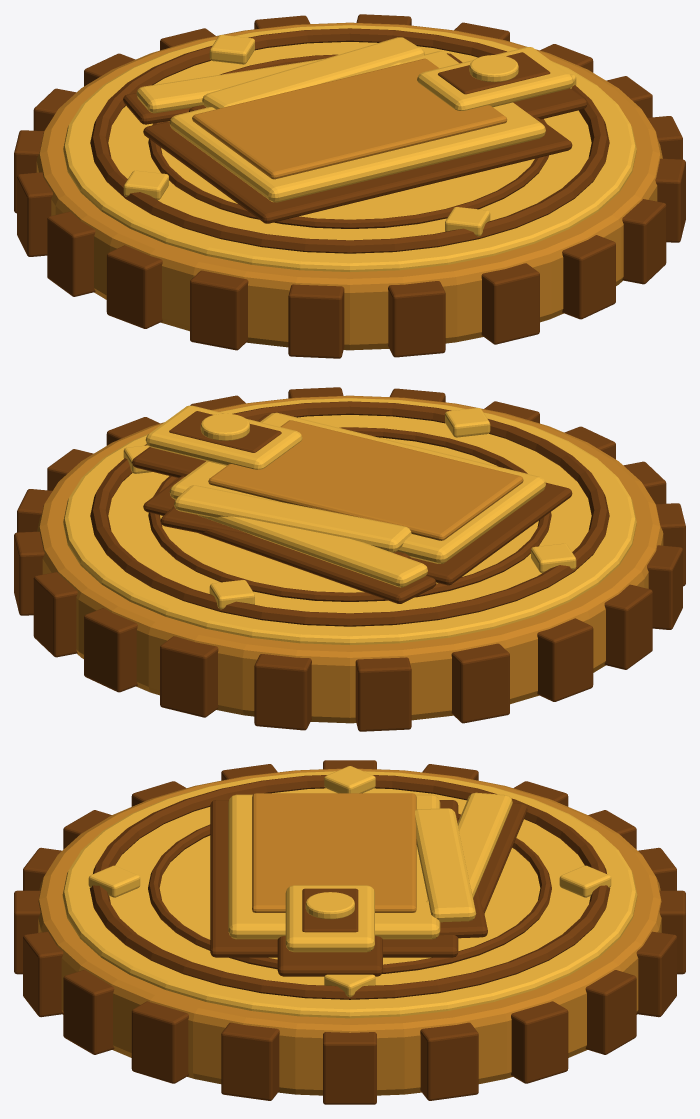
Rendered from 1coin.glb.
The picture shows the model from 3 angles, top to bottom: view 1: azimuth 30°, elevation 25°; view 2: azimuth 150°, elevation 25°; view 3: azimuth 270°, elevation 25°; orthographic projection.
Parts seen in each view (by area): view 1: Cylinder007_2, Cylinder007_1, Cylinder007; view 2: Cylinder007_2, Cylinder007_1, Cylinder007; view 3: Cylinder007_2, Cylinder007_1, Cylinder007.
Boxes of the visible parts, box(x1,y1,x2,y2) form: Cylinder007_2: box(14, 14, 685, 358); Cylinder007_1: box(63, 25, 636, 271); Cylinder007: box(36, 22, 662, 350); Cylinder007_2: box(14, 387, 685, 731); Cylinder007_1: box(63, 398, 636, 644); Cylinder007: box(37, 395, 663, 723); Cylinder007_2: box(14, 760, 685, 1104); Cylinder007_1: box(62, 766, 637, 1018); Cylinder007: box(38, 768, 661, 1095).
Size of the model in its own units: 0.0856 by 0.0191 by 0.0856.
